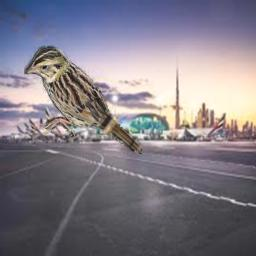Sparrow: (24, 45, 142, 154)
